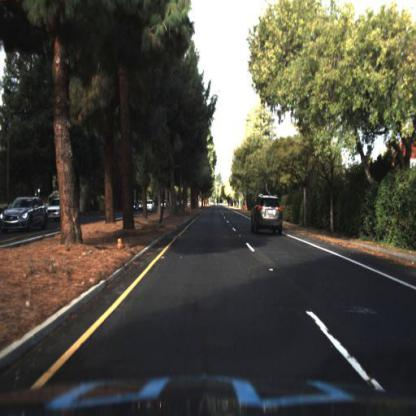car: (1, 197, 51, 235), (251, 191, 283, 231)
